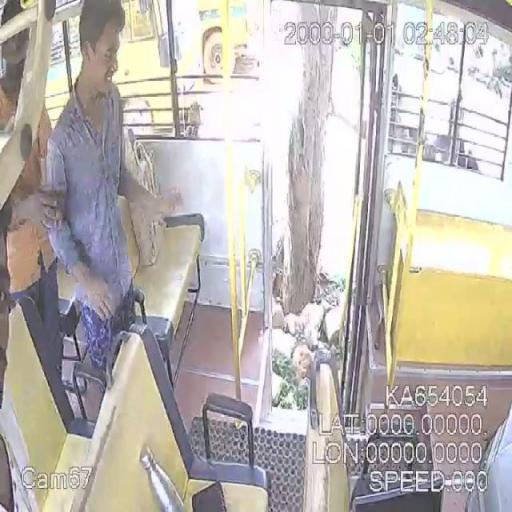persona: (37, 1, 178, 376)
